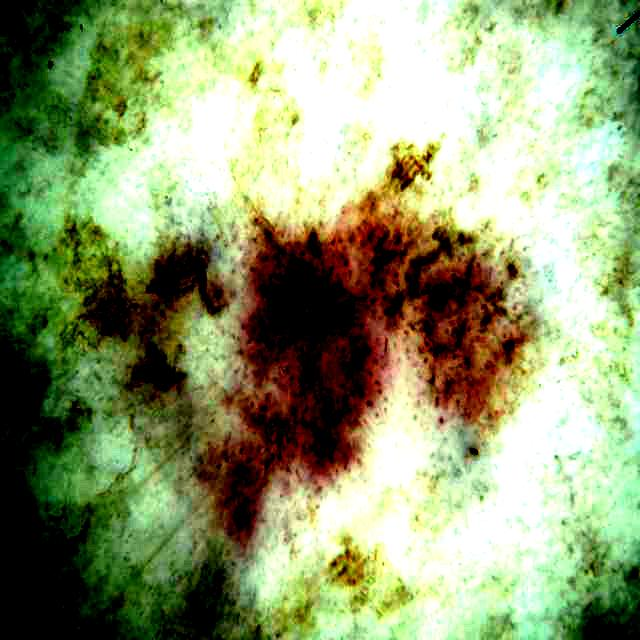BCC: (134, 139, 535, 528)
